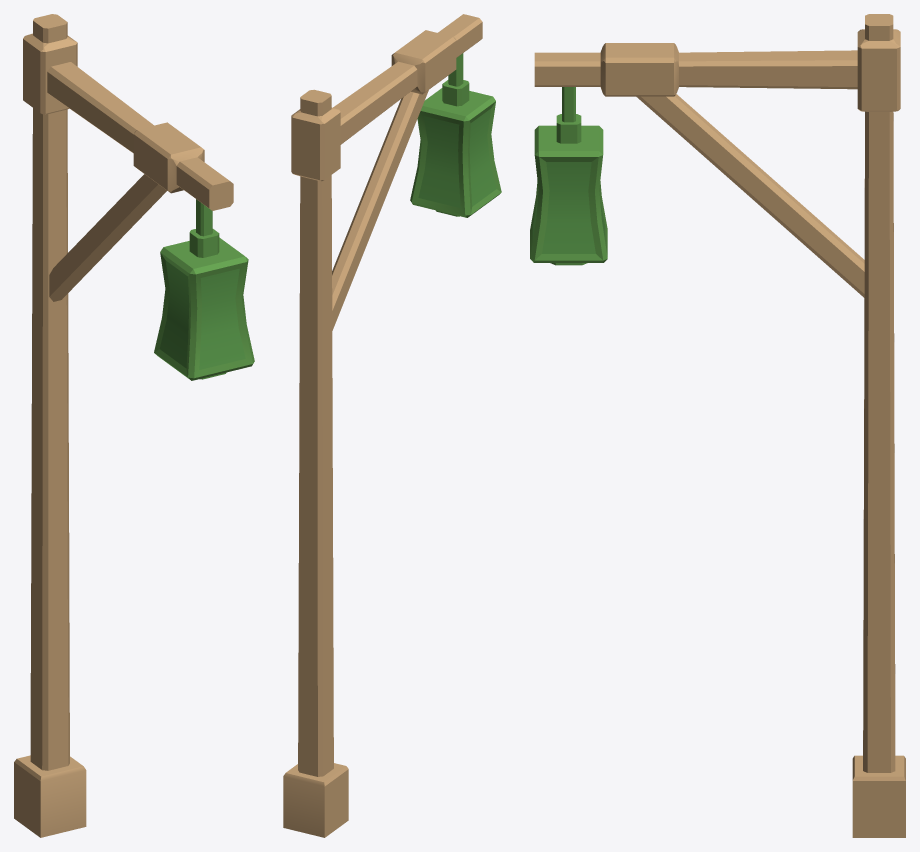
File: streetlight_a.gltf
The picture shows the model from 3 angles, left to right: view 1: azimuth 30°, elevation 25°; view 2: azimuth 150°, elevation 25°; view 3: azimuth 270°, elevation 25°; orthographic projection. The views are drawn at different scales.
Parts seen in each view (by area): view 1: streetlight_a001; view 2: streetlight_a001; view 3: streetlight_a001.
Boxes of the visible parts, x1,y1,x2,y2 form: streetlight_a001: [14, 14, 254, 837]; streetlight_a001: [283, 14, 501, 837]; streetlight_a001: [530, 14, 905, 837].
Size of the model in its own units: 0.1676 by 1.92 by 0.8104.
Materials: 1 (1 with a texture image).
